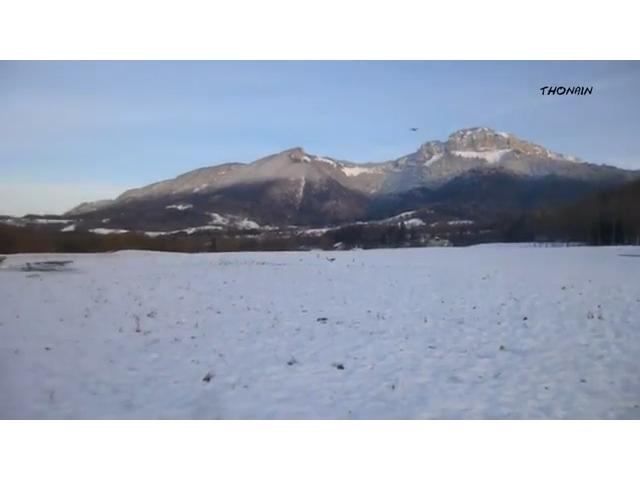Anti-Drone: (404, 122, 424, 136)
